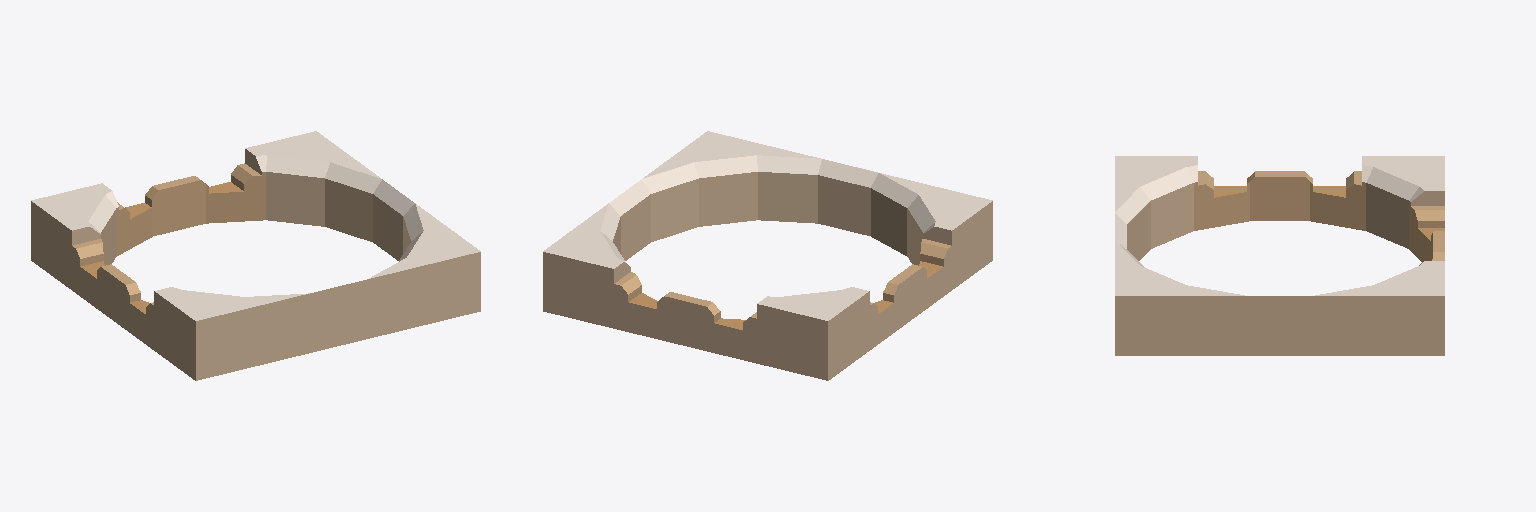
File: Puzzle_Track_Rotating_Housing_Corner.obj
3 renders of one model, left to right at view 1: azimuth 30°, elevation 25°; view 2: azimuth 150°, elevation 25°; view 3: azimuth 270°, elevation 25°, orthographic.
Parts seen in each view (by area): view 1: object1; view 2: object1; view 3: object1.
Part boxes in pixels (x1,y1,x2,y2): object1: (31,131,480,380); object1: (543,131,992,380); object1: (1115,156,1444,355).
Size of the model in its own units: 1 by 0.2 by 1.